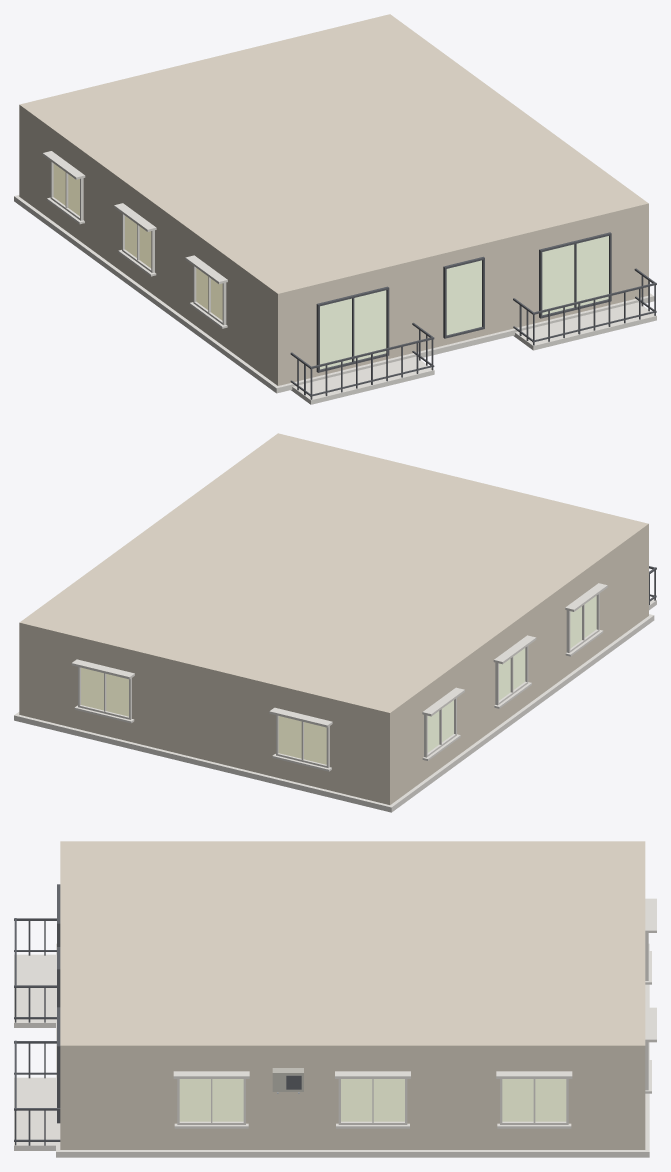
The model's file is SM_Floor_MidMarcory.fbx.
3 views of the same model, one above another, from view 1: azimuth 30°, elevation 25°; view 2: azimuth 150°, elevation 25°; view 3: azimuth 270°, elevation 25° (orthographic). The views are drawn at different scales.
Parts seen in each view (by area): view 1: SM_Floor_MidMarcory; view 2: SM_Floor_MidMarcory; view 3: SM_Floor_MidMarcory.
Part boxes in pixels (x1=…): SM_Floor_MidMarcory: x1=14, y1=14, x2=656, y2=404; SM_Floor_MidMarcory: x1=14, y1=433, x2=656, y2=812; SM_Floor_MidMarcory: x1=14, y1=841, x2=656, y2=1157.
Bounding box in the file's own units: 1264 × 306 × 1594.
